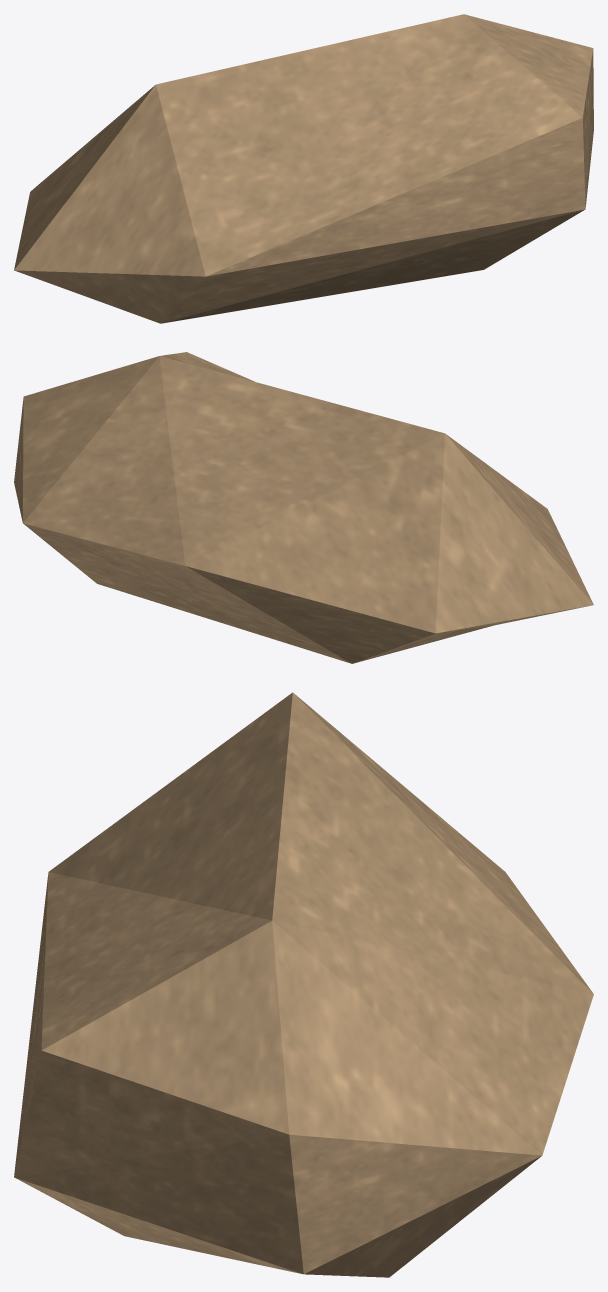
File: stone_wind_cobble.glb
3 renders of one model, top to bottom at view 1: azimuth 30°, elevation 25°; view 2: azimuth 150°, elevation 25°; view 3: azimuth 270°, elevation 25°, orthographic. The views are drawn at different scales.
Parts seen in each view (by area): view 1: stone_wind_cobble; view 2: stone_wind_cobble; view 3: stone_wind_cobble.
Part boxes in pixels (x1,y1,x2,y2): stone_wind_cobble: (14, 14, 593, 323); stone_wind_cobble: (14, 352, 593, 663); stone_wind_cobble: (14, 692, 593, 1277).
Size of the model in its own units: 0.46 by 0.16 by 0.25.
1 material, 1 textured.
